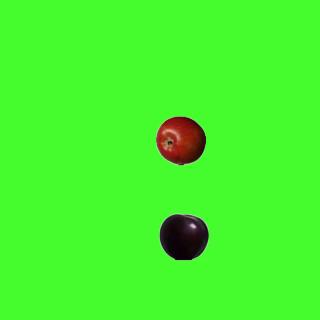Apple Braeburn: (155, 115, 205, 165)
Cherry Wax Black: (158, 211, 208, 261)
